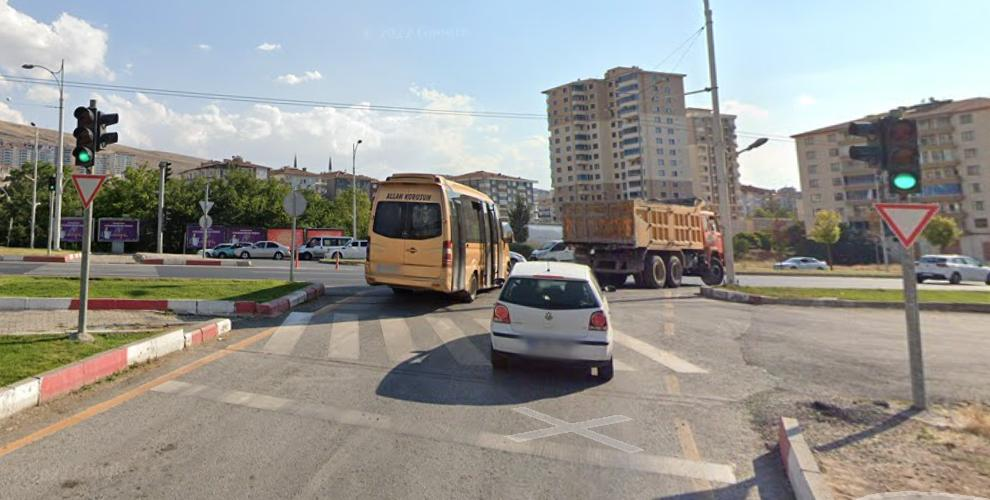greenlight: (882, 117, 926, 198), (72, 103, 98, 166)
